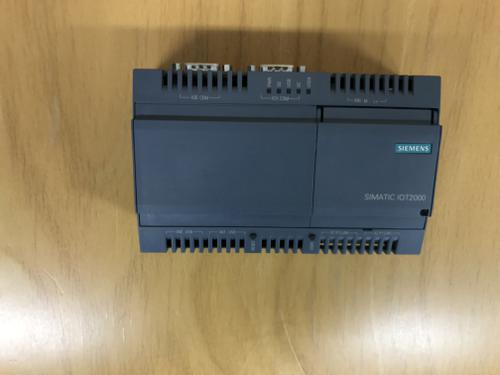device: (131, 63, 444, 256)
